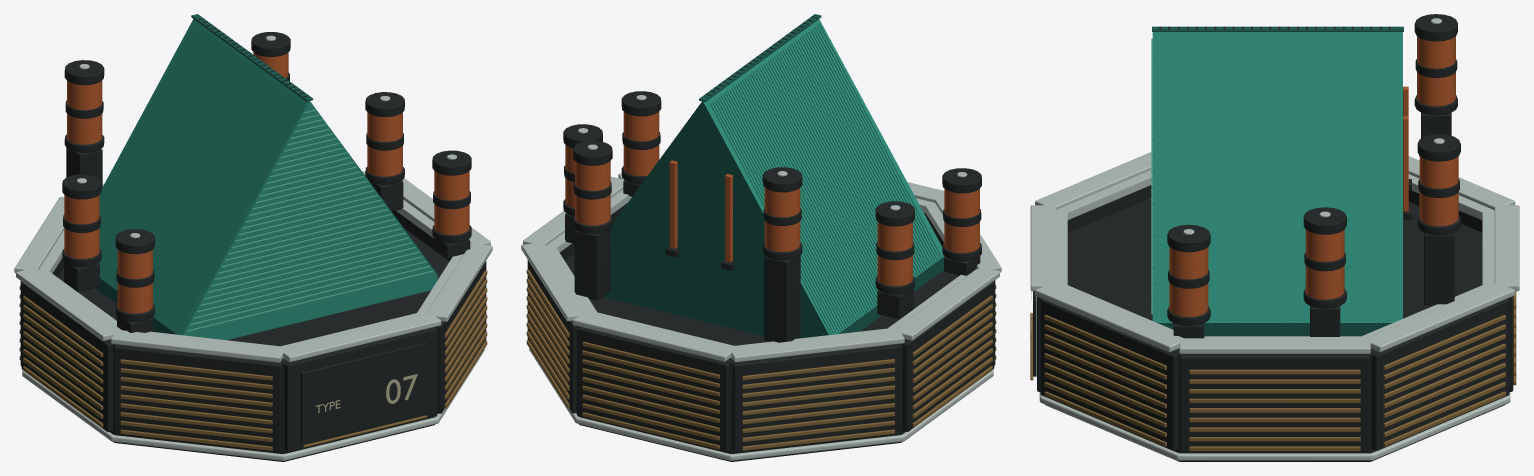
Rendered from CrystallineElectronicUnit_Finished.fbx.
3 renders of one model, left to right at view 1: azimuth 30°, elevation 25°; view 2: azimuth 150°, elevation 25°; view 3: azimuth 270°, elevation 25°, orthographic. The views are drawn at different scales.
Parts seen in each view (by area): view 1: CEU_JadeLaminate_GameMesh, CEU_Graphite_GameMesh, CEU_BrushedSilver_GameMesh, CEU_BronzePanels_GameMesh, CEU_DeepTeal_GameMesh, CEU_CopperClamps_GameMesh, CEU_MintRibEdges_GameMesh; view 2: CEU_Graphite_GameMesh, CEU_DeepTeal_GameMesh, CEU_JadeLaminate_GameMesh, CEU_BronzePanels_GameMesh, CEU_BrushedSilver_GameMesh, CEU_CopperClamps_GameMesh; view 3: CEU_JadeLaminate_GameMesh, CEU_Graphite_GameMesh, CEU_BrushedSilver_GameMesh, CEU_BronzePanels_GameMesh, CEU_CopperClamps_GameMesh, CEU_DeepTeal_GameMesh, CEU_MintRibEdges_GameMesh.
Part boxes in pixels (x1,y1,x2,y2): CEU_JadeLaminate_GameMesh: (99, 19, 437, 340); CEU_Graphite_GameMesh: (20, 18, 486, 461); CEU_BrushedSilver_GameMesh: (14, 35, 492, 460); CEU_BronzePanels_GameMesh: (19, 270, 487, 450); CEU_DeepTeal_GameMesh: (95, 14, 438, 334); CEU_CopperClamps_GameMesh: (64, 52, 469, 313); CEU_MintRibEdges_GameMesh: (186, 110, 433, 331); CEU_Graphite_GameMesh: (527, 16, 995, 461); CEU_DeepTeal_GameMesh: (603, 14, 944, 338); CEU_JadeLaminate_GameMesh: (703, 19, 944, 334); CEU_BronzePanels_GameMesh: (526, 269, 996, 450); CEU_BrushedSilver_GameMesh: (521, 95, 1001, 460); CEU_CopperClamps_GameMesh: (565, 111, 979, 286); CEU_JadeLaminate_GameMesh: (1152, 32, 1402, 322); CEU_Graphite_GameMesh: (1033, 14, 1513, 461); CEU_BrushedSilver_GameMesh: (1030, 18, 1519, 460); CEU_BronzePanels_GameMesh: (1030, 291, 1516, 451); CEU_CopperClamps_GameMesh: (1169, 36, 1458, 316); CEU_DeepTeal_GameMesh: (1151, 26, 1403, 336); CEU_MintRibEdges_GameMesh: (1151, 38, 1152, 314).
Bounding box in the file's own units: 176 × 134 × 176.
